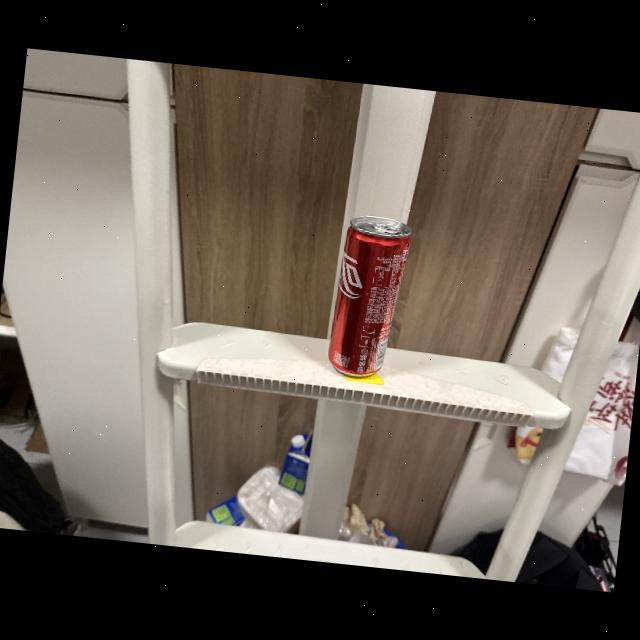Cola: (314, 208, 418, 386)
